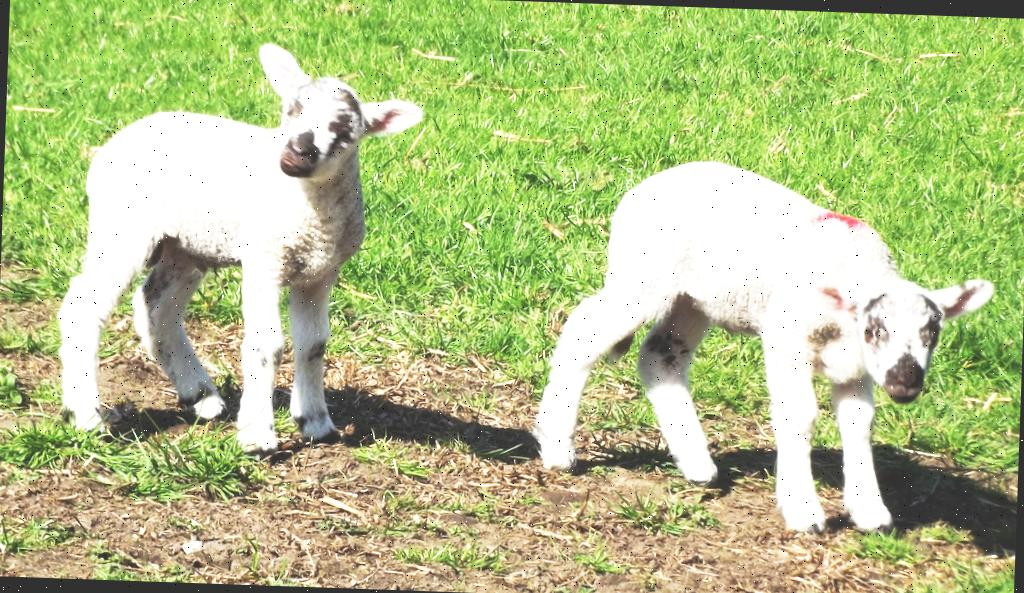Sheep: (529, 154, 998, 540), (54, 35, 426, 462)
